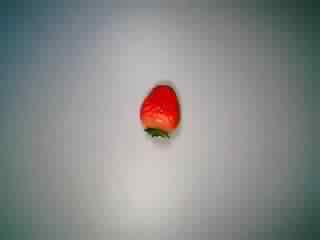strawberry: (128, 78, 188, 144)
